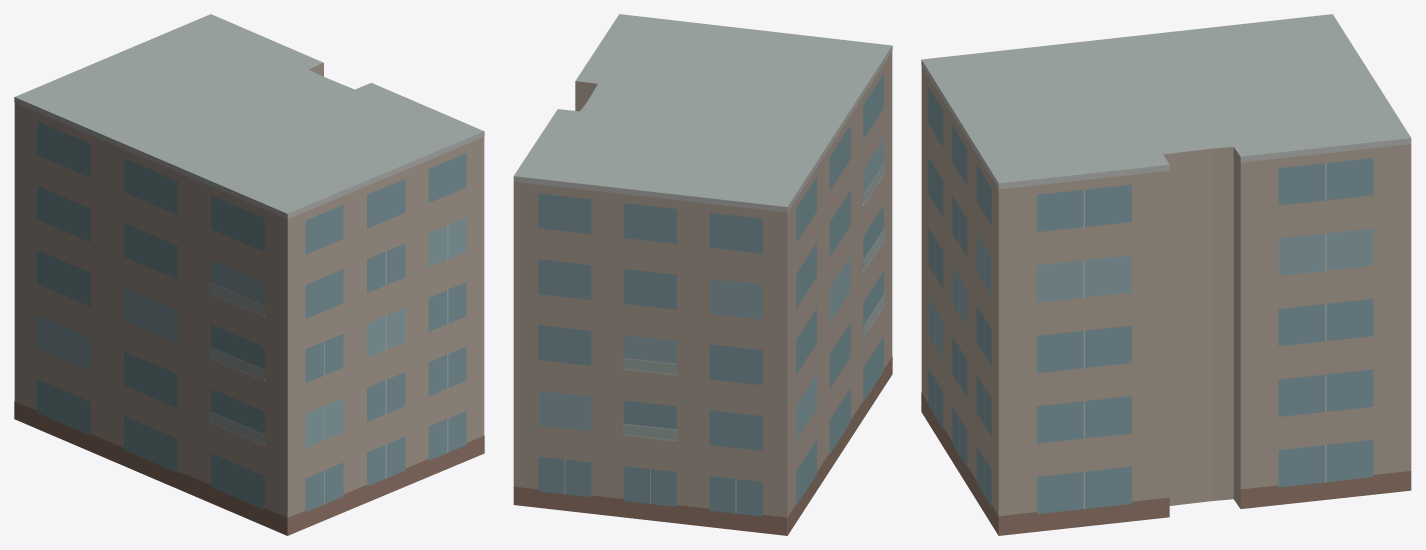
Rendered from survey-upis-32721335.glb.
3 views of the same model, side by side, from view 1: azimuth 30°, elevation 25°; view 2: azimuth 150°, elevation 25°; view 3: azimuth 270°, elevation 25° (orthographic). The views are drawn at different scales.
Parts seen in each view (by area): view 1: survey-upis-32721335.tmp; view 2: survey-upis-32721335.tmp; view 3: survey-upis-32721335.tmp.
Boxes of the visible parts, x1,y1,x2,y2 form: survey-upis-32721335.tmp: (14,14,484,535); survey-upis-32721335.tmp: (513,14,892,535); survey-upis-32721335.tmp: (921,14,1411,535).
Bounding box in the file's own units: 14.91 × 14.45 × 18.22.
